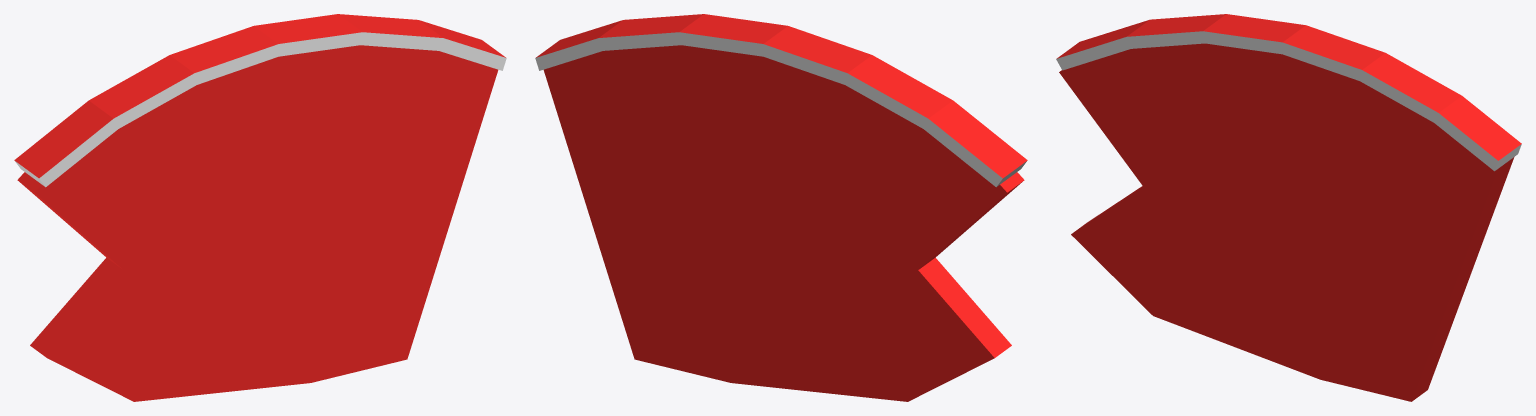
Rendered from StopRedTop.fbx.
3 renders of one model, left to right at view 1: azimuth 30°, elevation 25°; view 2: azimuth 150°, elevation 25°; view 3: azimuth 330°, elevation 25°, orthographic. The views are drawn at different scales.
Visible parts, largest first — view 1: StopRedTop; view 2: StopRedTop; view 3: StopRedTop.
Part boxes in pixels (bbox=[...]): StopRedTop: bbox=[14, 14, 506, 401]; StopRedTop: bbox=[535, 14, 1027, 401]; StopRedTop: bbox=[1056, 14, 1521, 401].
Size of the model in its own units: 1.7 by 1.21 by 0.1562.
